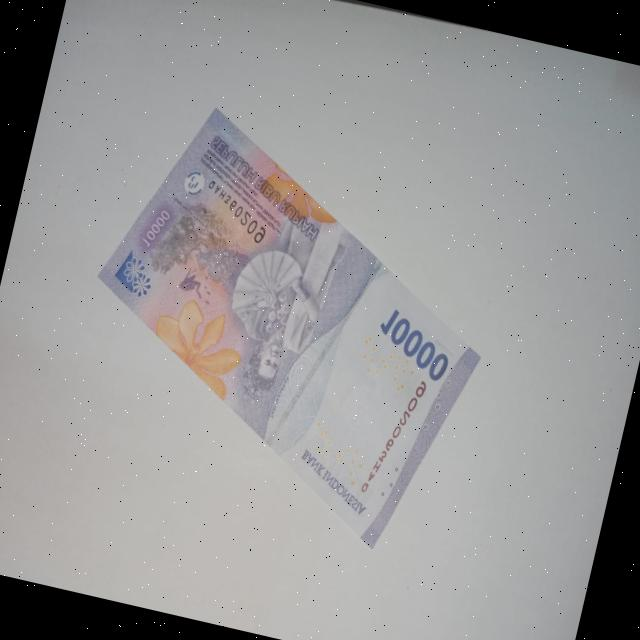10K: (49, 82, 528, 567)
